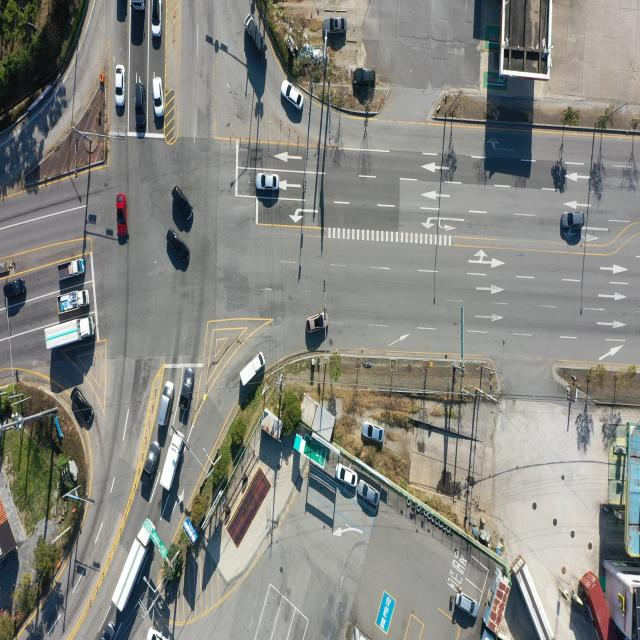car: (165, 229, 191, 268), (73, 386, 96, 426), (141, 440, 160, 482), (174, 188, 196, 223), (159, 381, 175, 427), (180, 366, 195, 414), (281, 82, 303, 112), (358, 482, 380, 508), (135, 82, 146, 132), (116, 194, 128, 239), (336, 463, 358, 487), (306, 311, 328, 334), (4, 280, 26, 300), (456, 592, 476, 614), (561, 211, 586, 228), (256, 173, 279, 191), (153, 78, 163, 118), (362, 423, 383, 442), (150, 0, 161, 36), (354, 67, 376, 85), (115, 66, 124, 108), (327, 18, 347, 35), (101, 620, 116, 640), (147, 627, 170, 640)
medium_truck: (114, 516, 157, 613), (518, 555, 557, 638), (45, 316, 96, 354), (157, 432, 184, 495), (130, 0, 147, 12)
small_truck: (244, 9, 269, 61), (239, 351, 264, 388), (56, 288, 88, 311), (57, 260, 86, 282), (482, 629, 492, 640)
